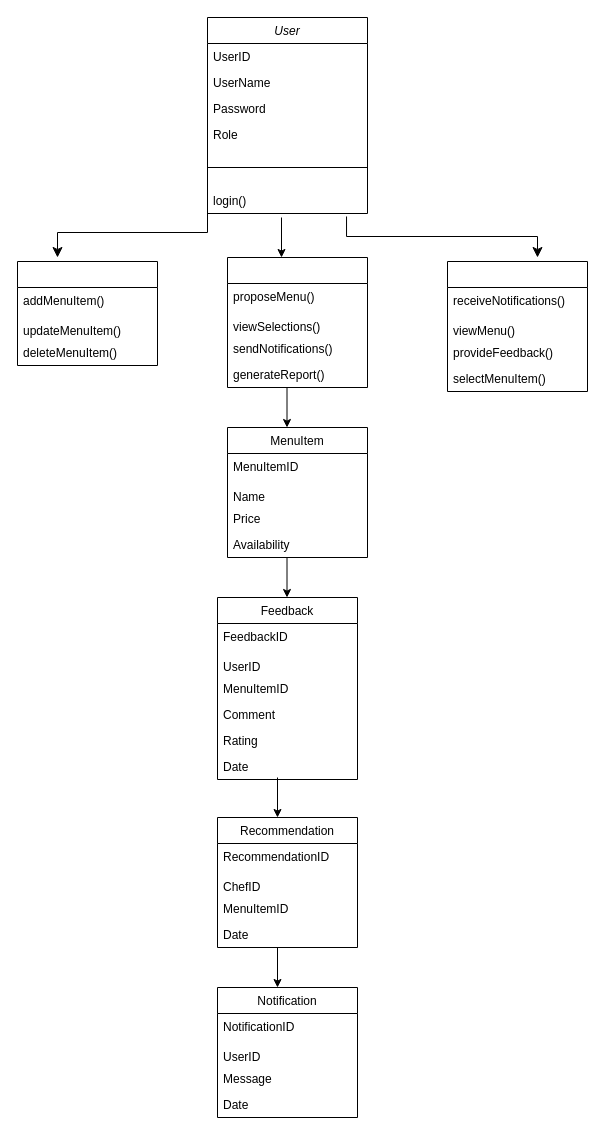
This 605x1138 diagram has some shape labels left out. Here are the shapes that lost their labels. From the top down, the box of each, then its label:
(16, 260, 158, 366): Admin
(226, 256, 368, 388): Chef
(446, 260, 588, 392): Employee
